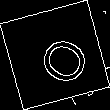O_NW: (22, 24, 88, 86)
